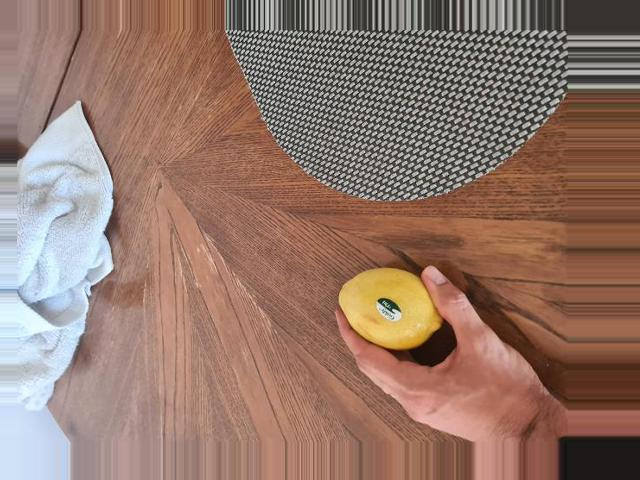lemon: (334, 269, 446, 344)
